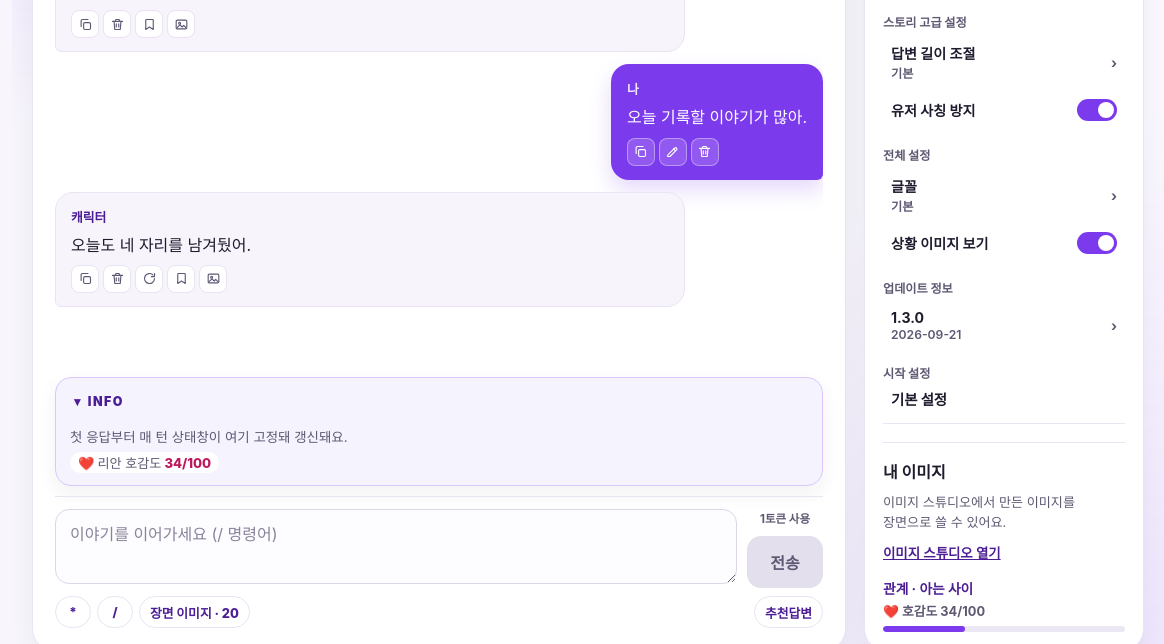
Test: 채팅방 설정과 고정 상태창 › INFO 상태창은 응답마다 고정 자리에서 갱신되고 이전 턴 상태창을 넘겨 볼 수 있다
The image size is (1164, 644).
(page scrolled)
Check: the text "첫 응답부터 매 턴 상태창이 여기 고정돼 갱신돼요." is shown, box left=70, top=429, right=348, bottom=445
Type "오늘은 어떤 책이 좋아?" into the text box named "메시지".
click(396, 547); type("오늘은 어떤 책이 좋아?")  # box left=55, top=509, right=737, bottom=584
Then press Enter
(page scrolled)
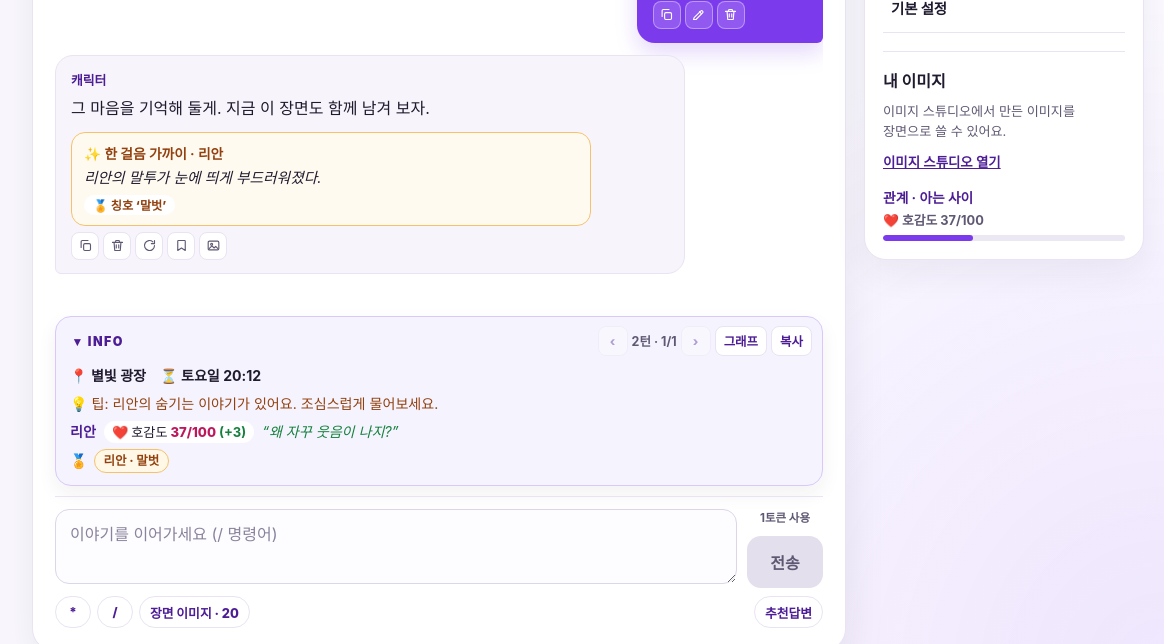
Check: the text "2턴 · 1/1" is shown, box left=632, top=332, right=677, bottom=350
Check: the text "📍 별빛 광장" is shown, box left=70, top=365, right=146, bottom=387
Type "그 책을 같이 읽자" into the text box named "메시지".
click(396, 546); type("그 책을 같이 읽자")  # box left=55, top=508, right=737, bottom=584
Then press Enter
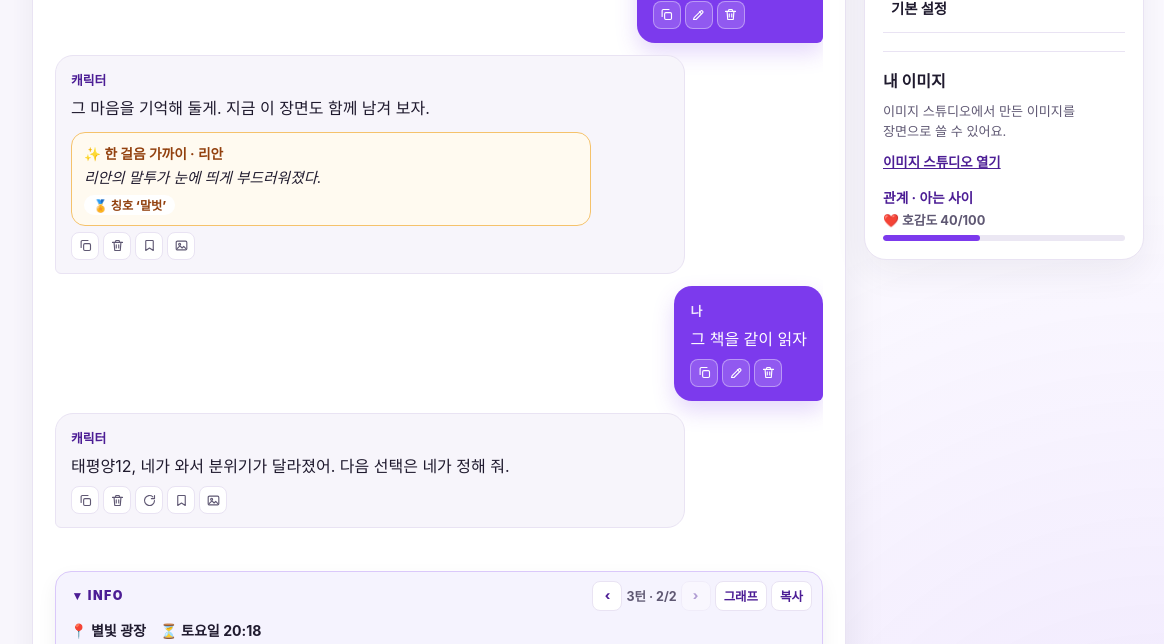
Check: the button named "다음 턴 상태창" is disabled, box left=681, top=581, right=711, bottom=611
Check: the text "3턴 · 2/2" is shown, box left=626, top=587, right=677, bottom=605
Click the button named "이전 턴 상태창".
click(608, 596)  # box left=592, top=581, right=622, bottom=611
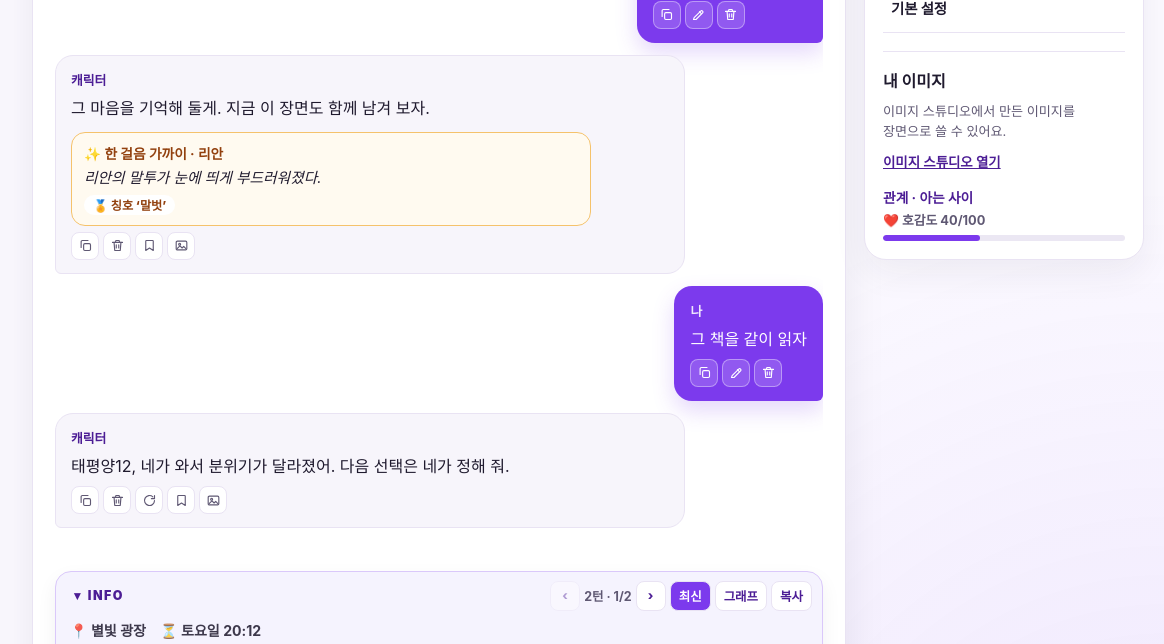
Check: the text "2턴 · 1/2" is shown, box left=584, top=587, right=632, bottom=605
Click the button "최신".
click(690, 596)  # box left=670, top=581, right=711, bottom=611
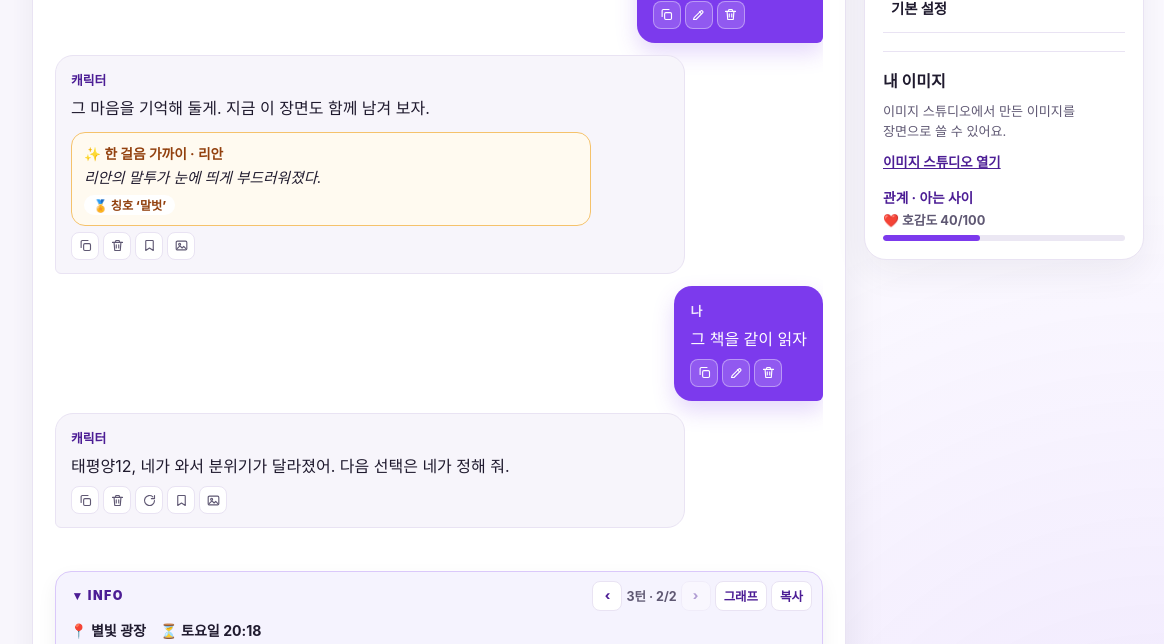
Check: the text "3턴 · 2/2" is shown, box left=626, top=587, right=677, bottom=605
Click the button "▾ INFO".
click(99, 596)  # box left=66, top=580, right=132, bottom=612
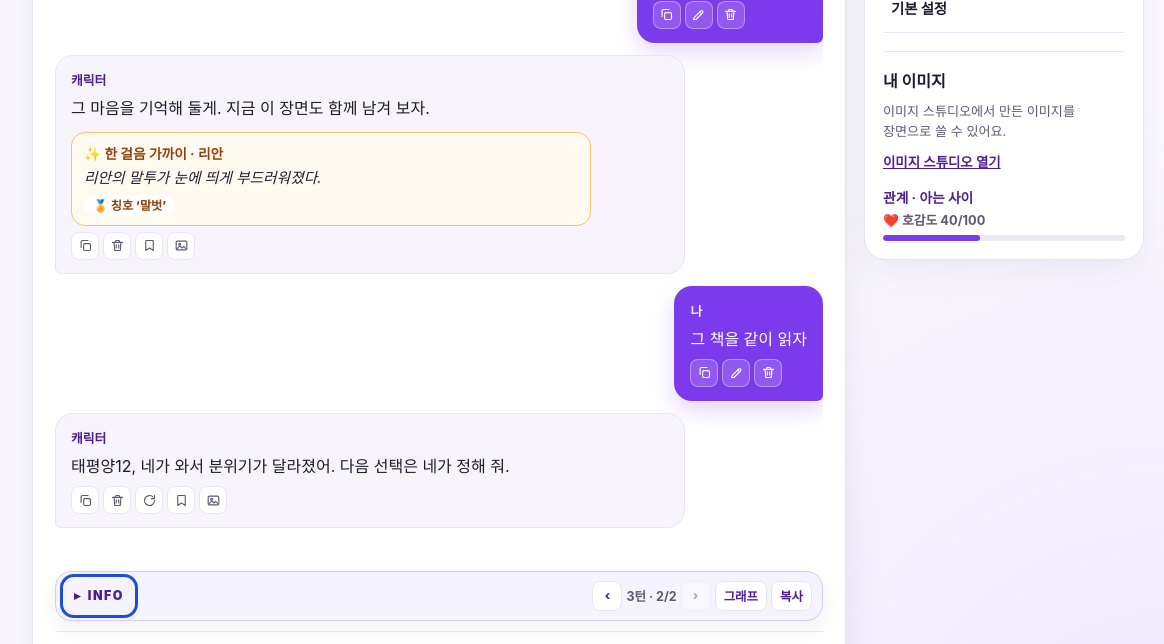
Check: the text "📍" is gone
